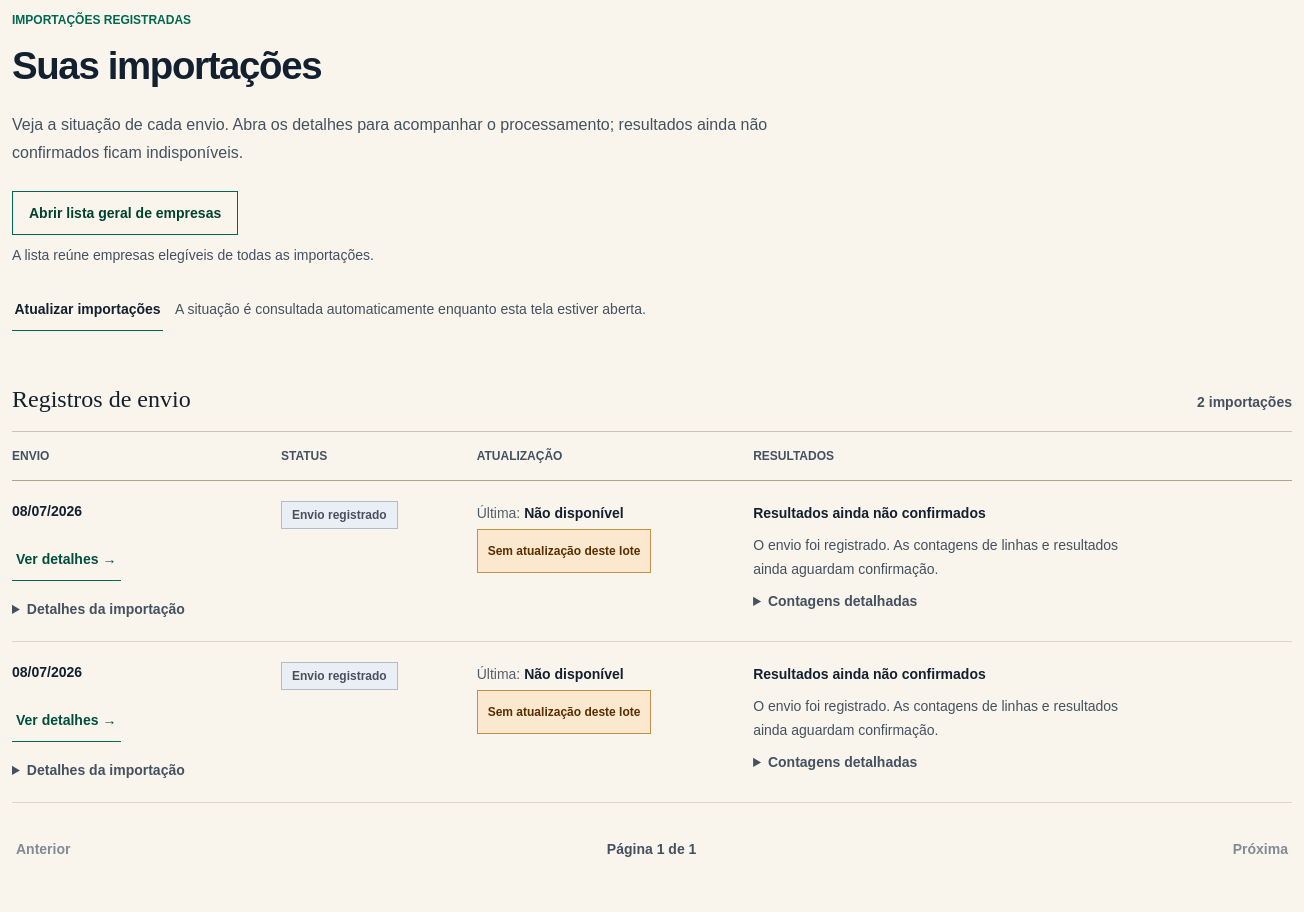
Test: batch list page › keeps observations active when a refresh returns the same visible submissions
Expected: the table named "Importações registradas" is shown, [12,432,1292,803]
Click the button "Atualizar importações": (88, 309) [12,287,163,331]
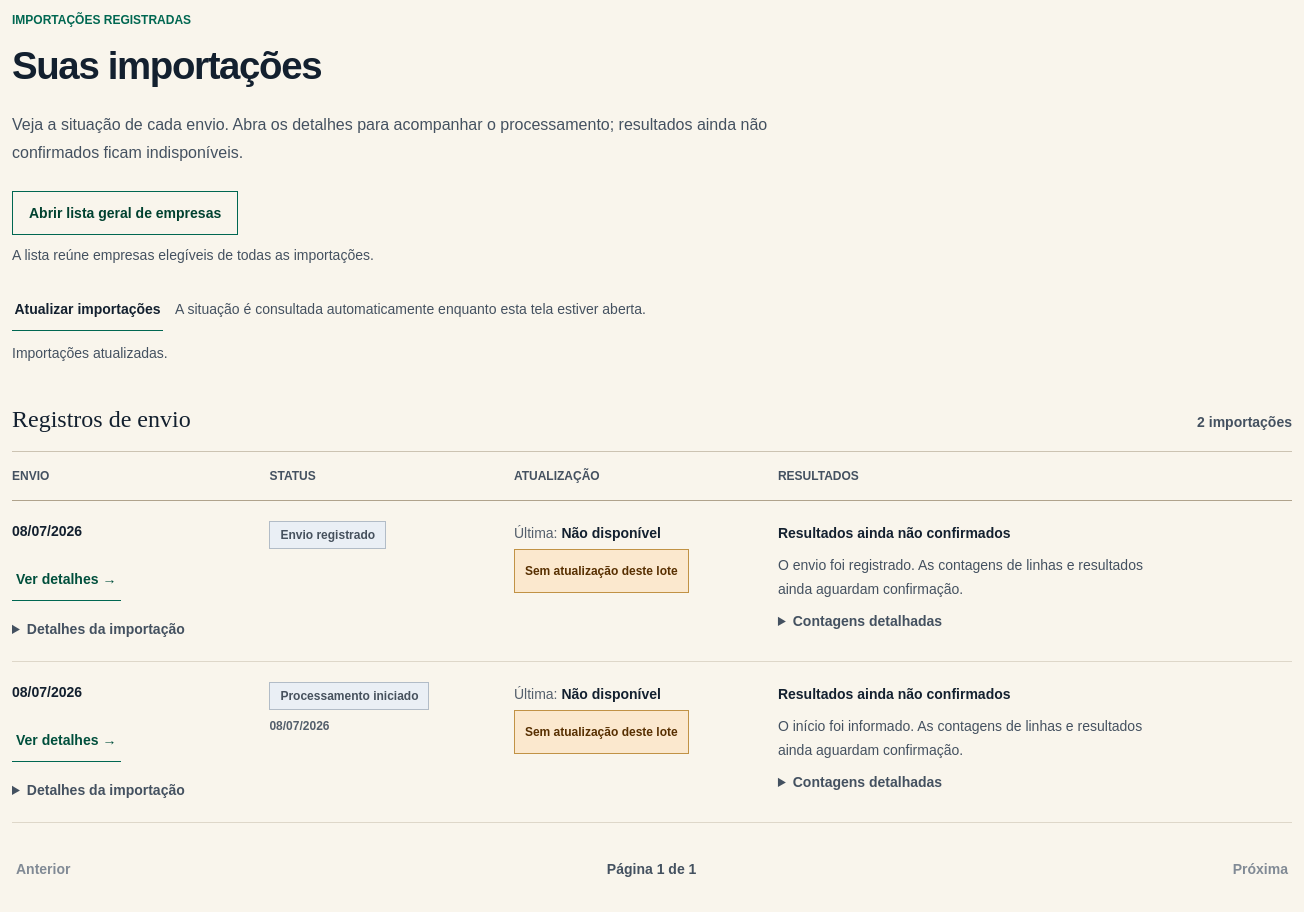
Now the text "Processamento iniciado" is shown, box [269,682,429,710]
